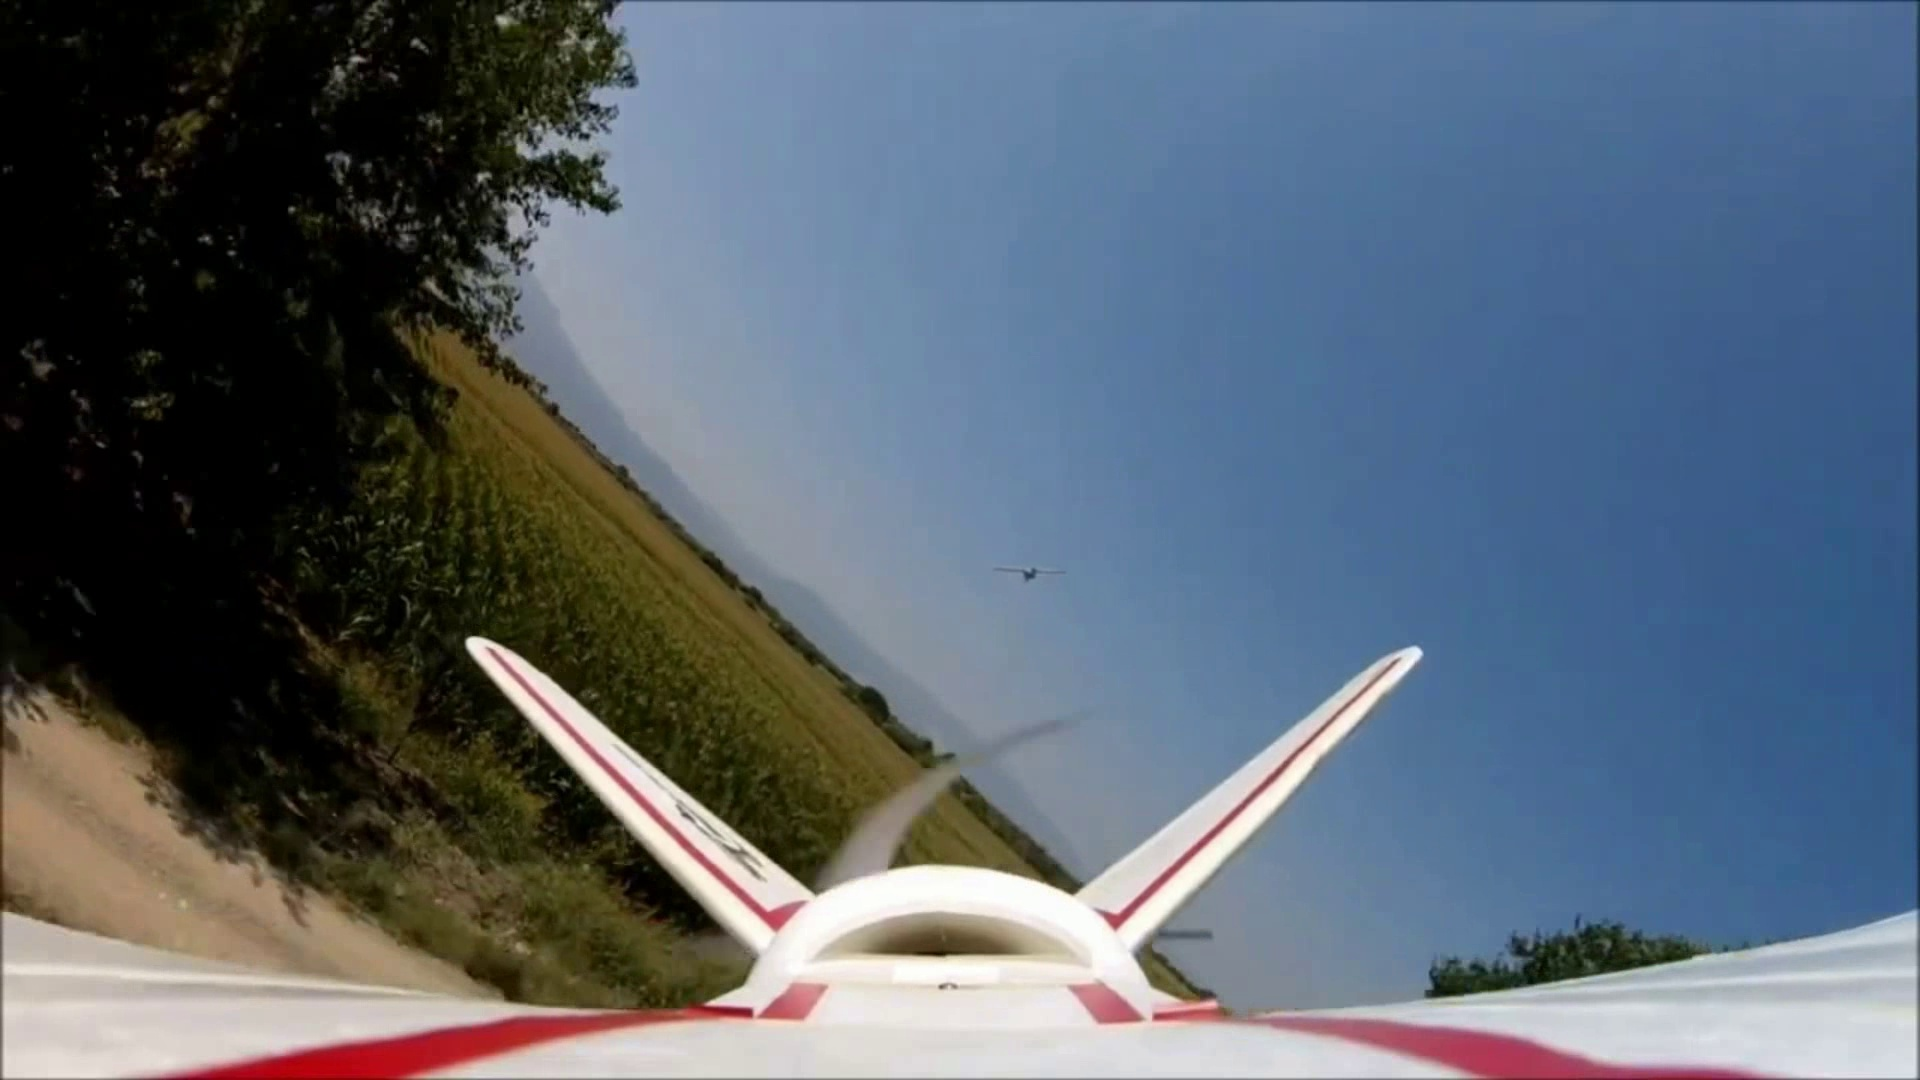airplane: (13, 633, 1895, 1071)
